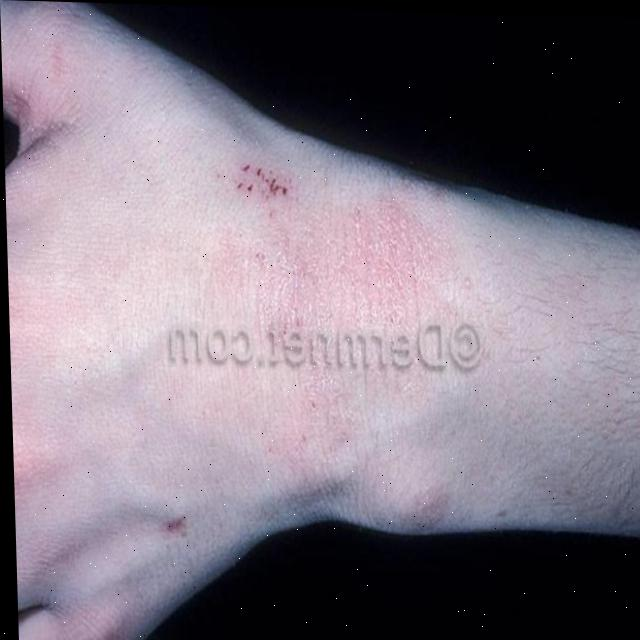Eczema: (250, 198, 455, 340)
